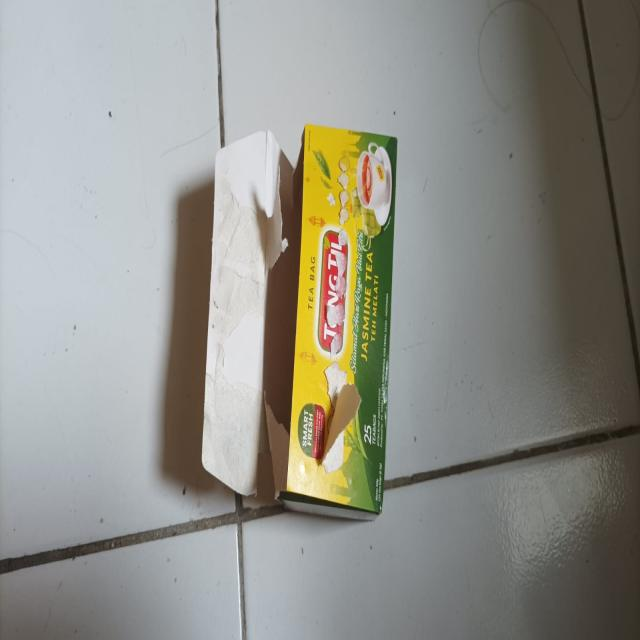Organik: (204, 125, 397, 523)
